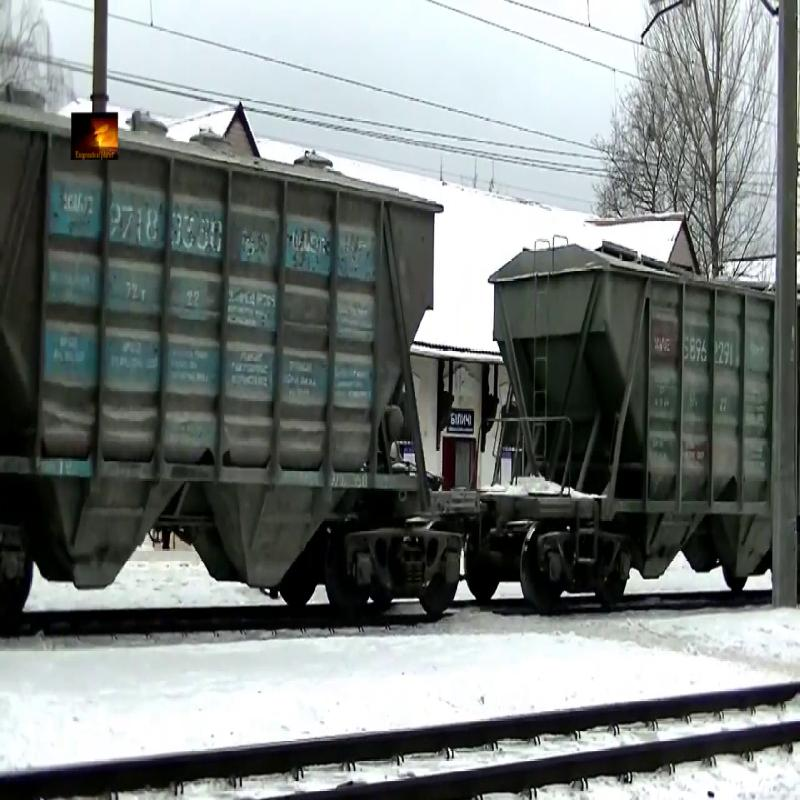train: (1, 117, 449, 612), (481, 259, 776, 603)
